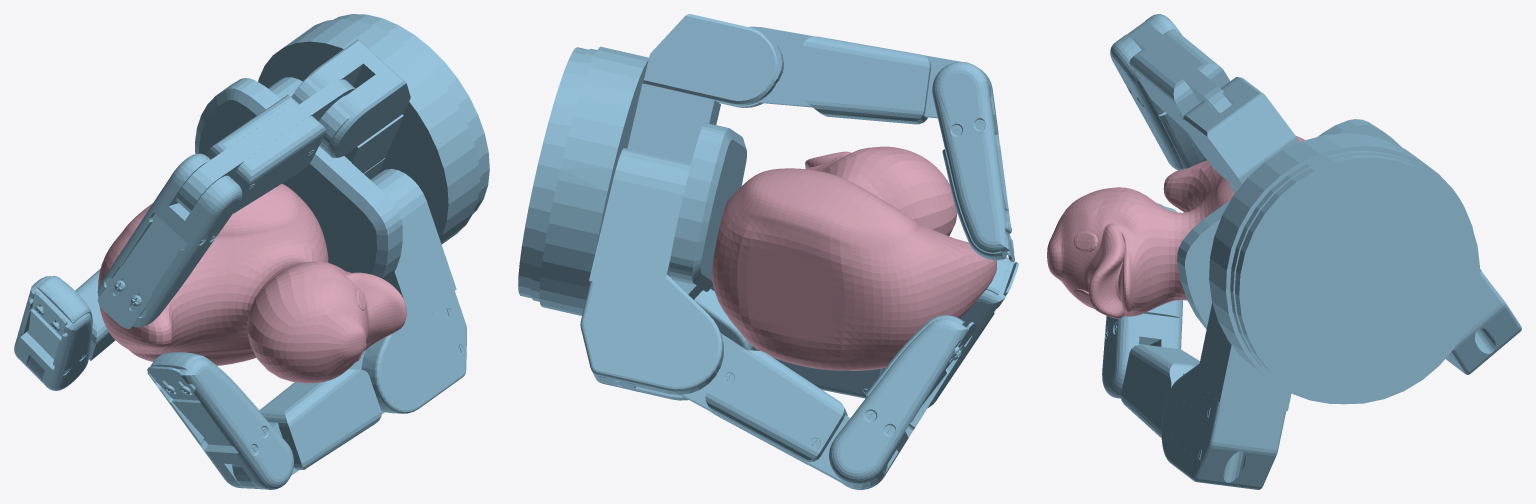
3 renders of one model, left to right at view 1: azimuth 30°, elevation 25°; view 2: azimuth 150°, elevation 25°; view 3: azimuth 270°, elevation 25°, orthographic. The views are drawn at different scales.
Visible parts, largest first — view 1: world; view 2: world; view 3: world.
Part boxes in pixels (bbox=[...]): world: bbox=[14, 14, 489, 489]; world: bbox=[518, 14, 1018, 489]; world: bbox=[1047, 14, 1521, 489].
Bounding box in the file's own units: 0.1704 × 0.1439 × 0.1583.
